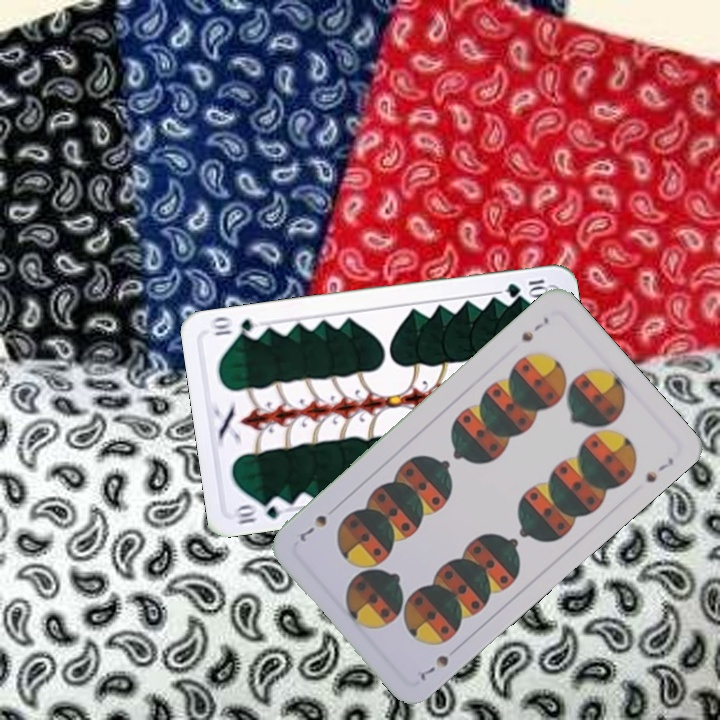G10: (232, 494, 291, 527), (502, 275, 551, 301)
S7: (412, 650, 452, 684), (517, 313, 552, 345)
